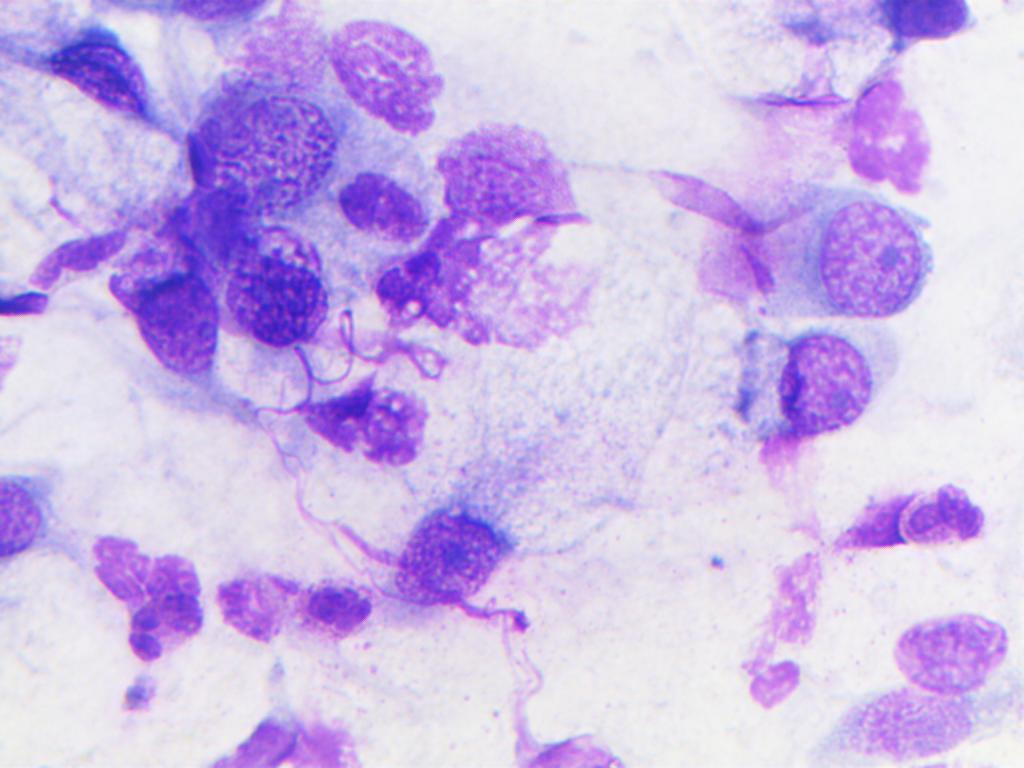artifact: (737, 534, 843, 717), (832, 71, 941, 196), (270, 387, 436, 468), (0, 222, 133, 321), (646, 162, 778, 246), (677, 237, 792, 303)
epithelial: (191, 96, 340, 232), (426, 116, 598, 233), (803, 187, 934, 328), (329, 5, 448, 136), (230, 241, 330, 379), (858, 609, 1015, 694), (329, 172, 431, 246), (0, 470, 54, 572), (216, 234, 229, 241)
goblet_cell: (391, 385, 649, 618), (6, 9, 181, 208), (688, 321, 879, 454), (102, 207, 226, 384), (703, 0, 981, 71)
neutrophil: (352, 247, 483, 347), (117, 584, 216, 682), (883, 480, 992, 550), (298, 564, 374, 652)
